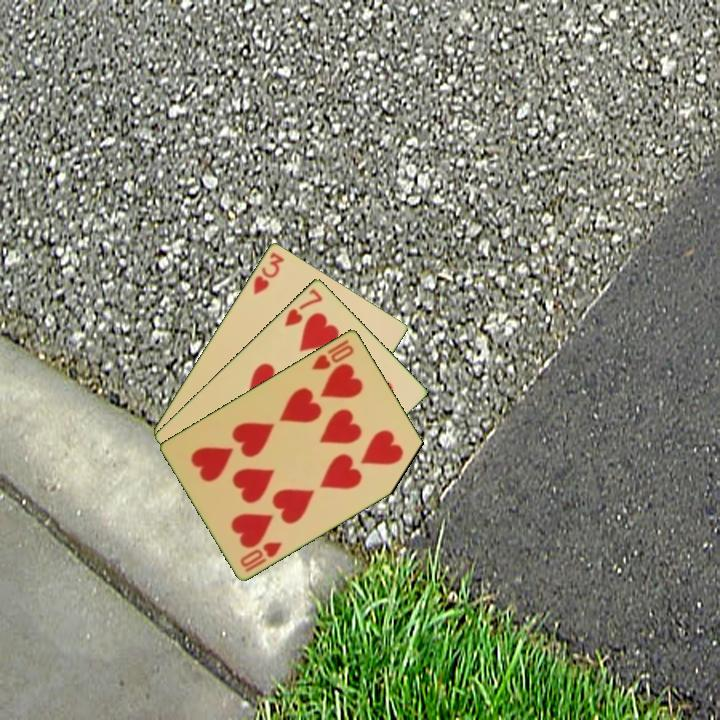10h: (237, 538, 285, 575), (308, 341, 357, 372)
3h: (250, 248, 287, 297)
7h: (281, 285, 326, 329)
